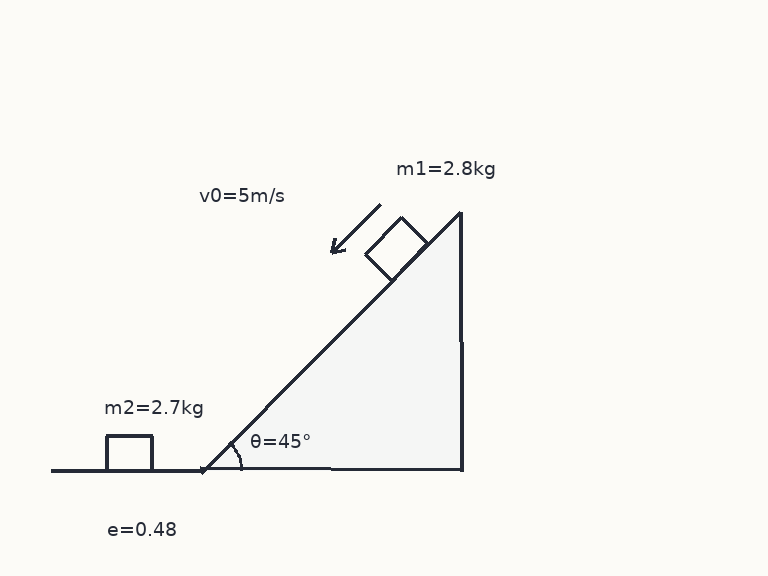block: (363, 215, 429, 282), (104, 434, 154, 472)
ramp: (199, 208, 463, 472)
